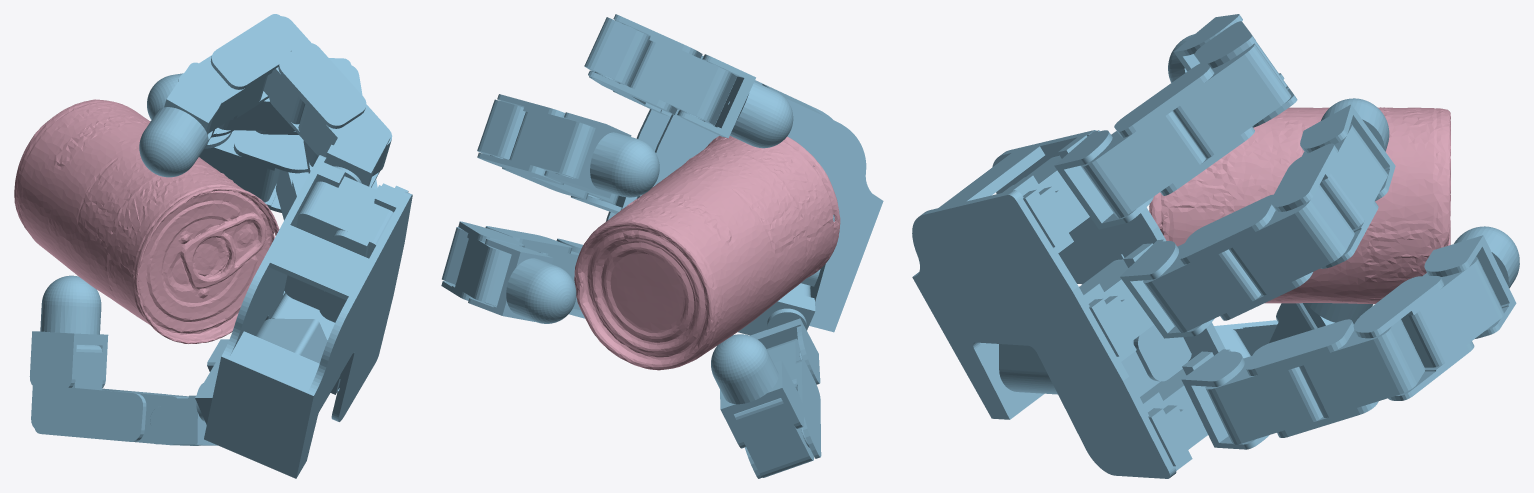
3 views of the same model, side by side, from view 1: azimuth 30°, elevation 25°; view 2: azimuth 150°, elevation 25°; view 3: azimuth 270°, elevation 25° (orthographic). The views are drawn at different scales.
Parts seen in each view (by area): view 1: world; view 2: world; view 3: world.
Part boxes in pixels (x1=…): world: x1=14, y1=14, x2=412, y2=478; world: x1=441, y1=14, x2=883, y2=478; world: x1=912, y1=14, x2=1519, y2=478.
Bounding box in the file's own units: 0.154 × 0.1775 × 0.2049.
